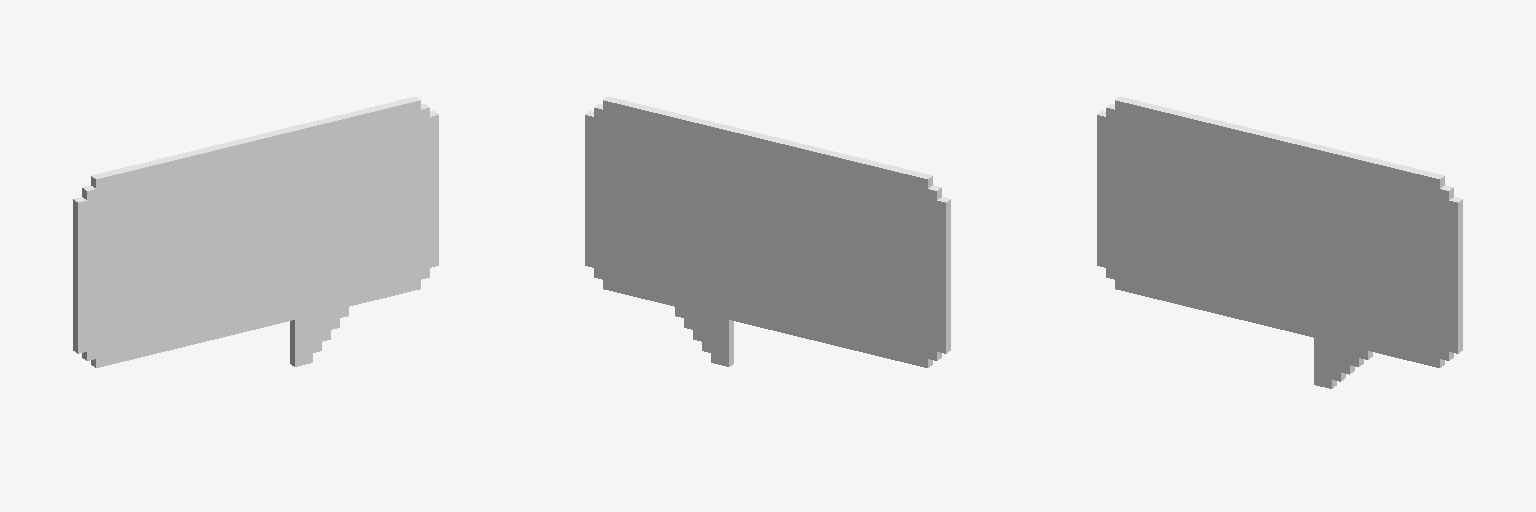
The model's file is dots.obj.
3 views of the same model, side by side, from view 1: azimuth 30°, elevation 25°; view 2: azimuth 150°, elevation 25°; view 3: azimuth 330°, elevation 25° (orthographic).
Parts seen in each view (by area): view 1: dots; view 2: dots; view 3: dots.
Boxes of the visible parts, <box> form: dots: <box>73,96,438,367</box>; dots: <box>585,96,950,367</box>; dots: <box>1097,96,1462,388</box>.
Size of the model in its own units: 40 by 25 by 1.